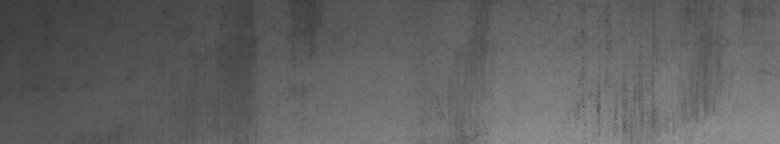ka: (574, 91, 656, 136)
